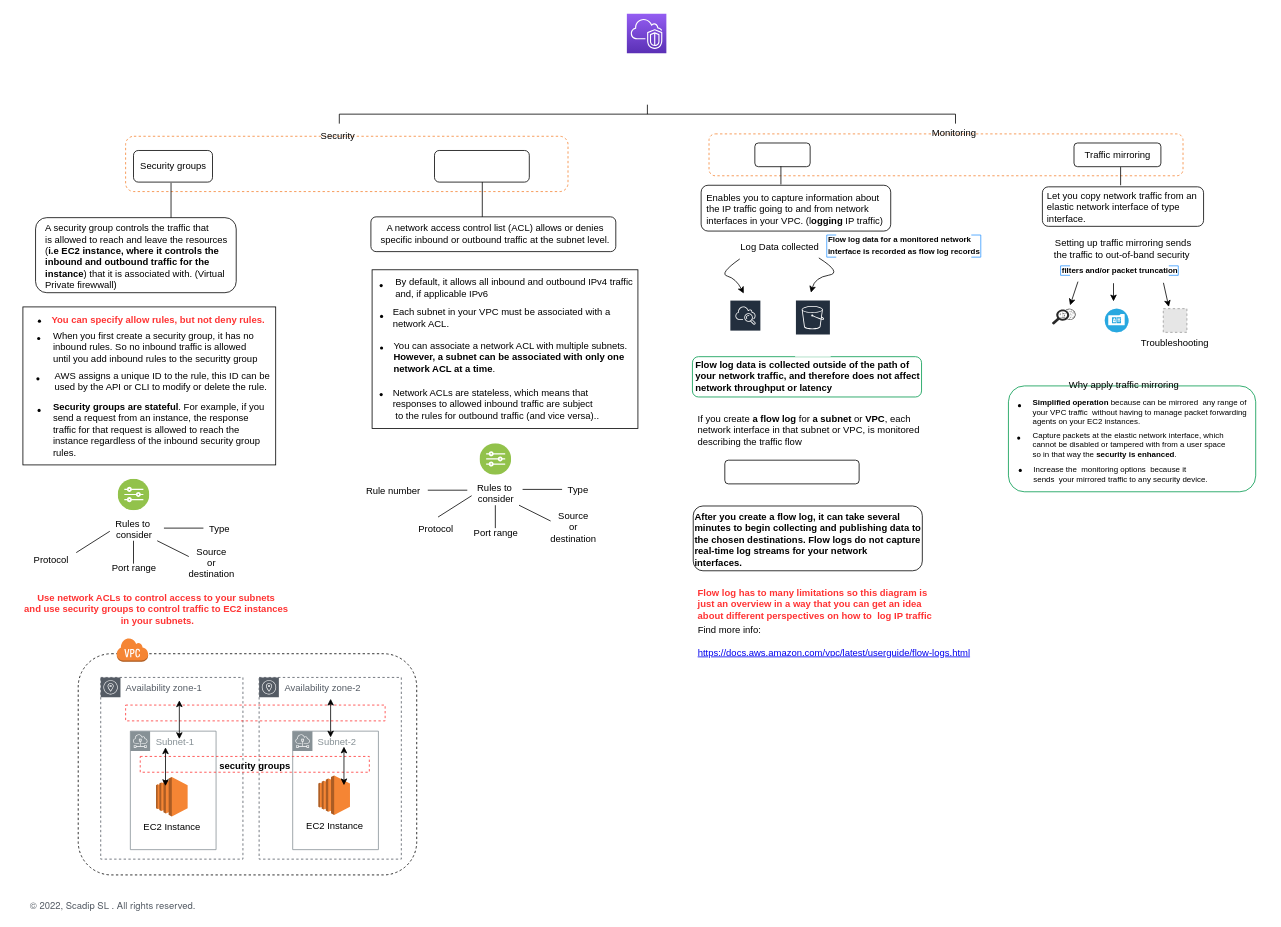
This 1281x927 diagram has some shape labels left out. Grey dashed boxes stand in for pictures. Here are the shapes that lost their labels. From the top down, the centre of each, then its label:
At (x=646, y=33): "Increasing and Monitoring security on VPC".
At (x=481, y=166): "Network access control lists ( ACL )".
At (x=782, y=154): "Flow logs".
At (x=745, y=325): "Amazon CloudWatch".
At (x=812, y=328): "Amazon S3".
At (x=1063, y=316): "Inspection".
At (x=1116, y=320): "Threat monitoring".
At (x=791, y=471): "Cons when using flow logs".
At (x=255, y=712): "Network ACL".
